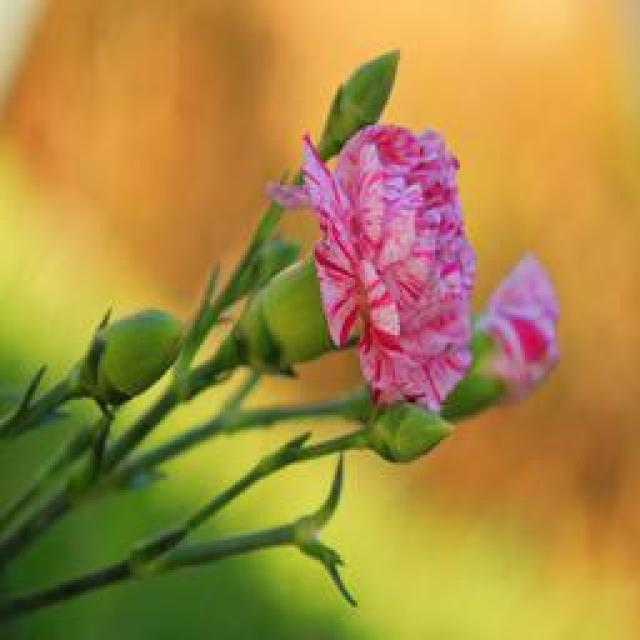carnation: (238, 96, 484, 441)
